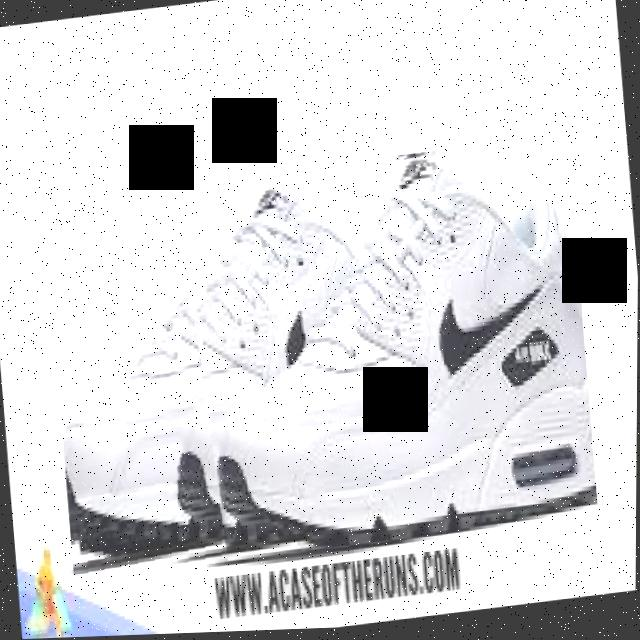shoe: (42, 137, 602, 588), (173, 142, 601, 565)
